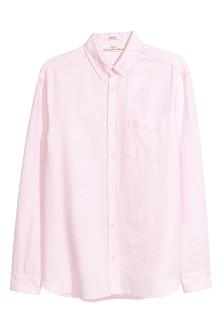teeshirt: (15, 27, 215, 306)
